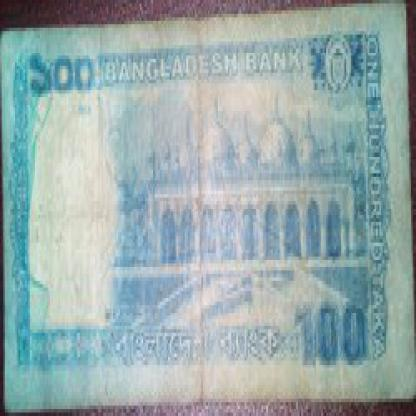one hundred taka: (295, 291, 371, 371), (20, 42, 106, 108)
